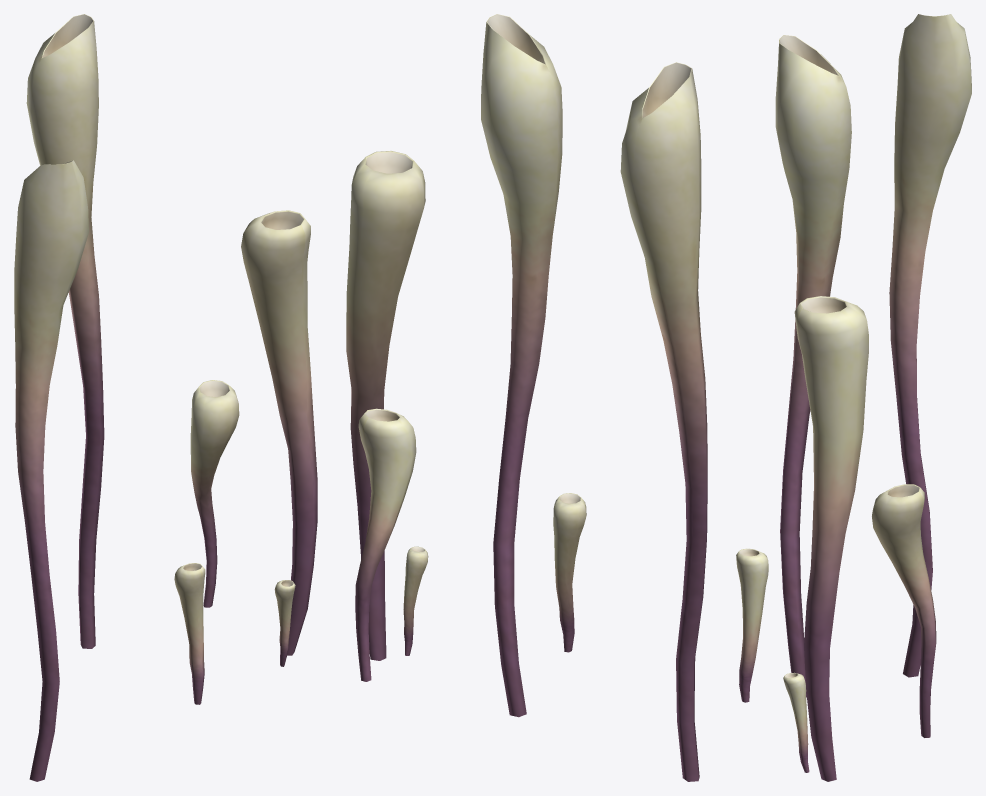
Rendered from Cartoon Seaweed_13-1-42.fbx.
The picture shows the model from 3 angles, left to right: view 1: azimuth 30°, elevation 25°; view 2: azimuth 150°, elevation 25°; view 3: azimuth 270°, elevation 25°; orthographic projection. The views are drawn at different scales.
Visible parts, largest first — view 1: Cartoon Seaweed_13.1.42; view 2: Cartoon Seaweed_13.1.42; view 3: Cartoon Seaweed_13.1.42.
Boxes of the visible parts, box(x1,y1,x2,y2) form: Cartoon Seaweed_13.1.42: box(14, 14, 317, 781); Cartoon Seaweed_13.1.42: box(346, 14, 707, 781); Cartoon Seaweed_13.1.42: box(736, 14, 971, 781).
Bounding box in the file's own units: 16.41 × 35.4 × 10.22.
1 material, 1 textured.
